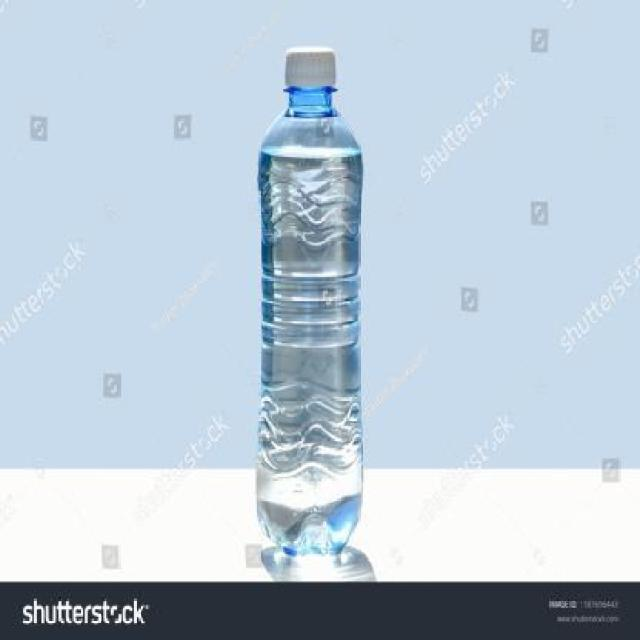bottle: (246, 24, 372, 564)
